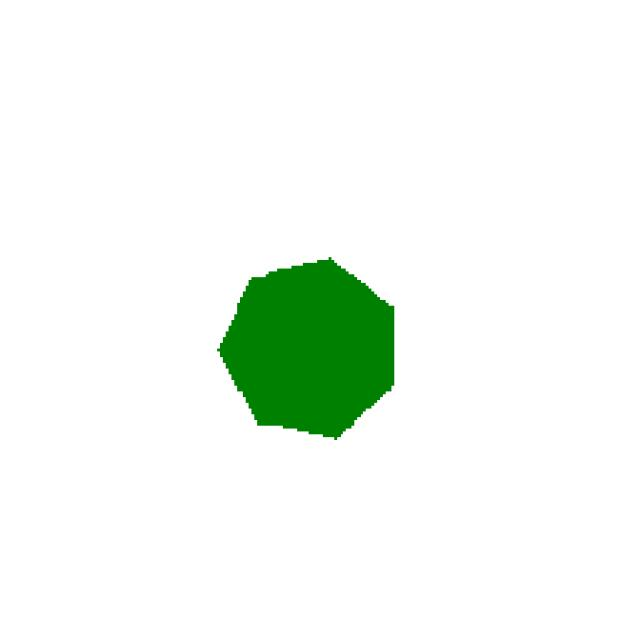Heptagon: (184, 231, 479, 473)
